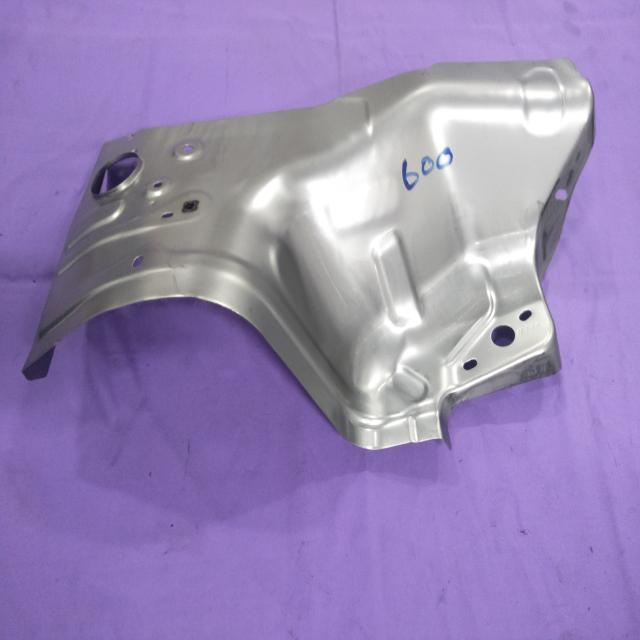Healthy: (22, 54, 596, 454)
